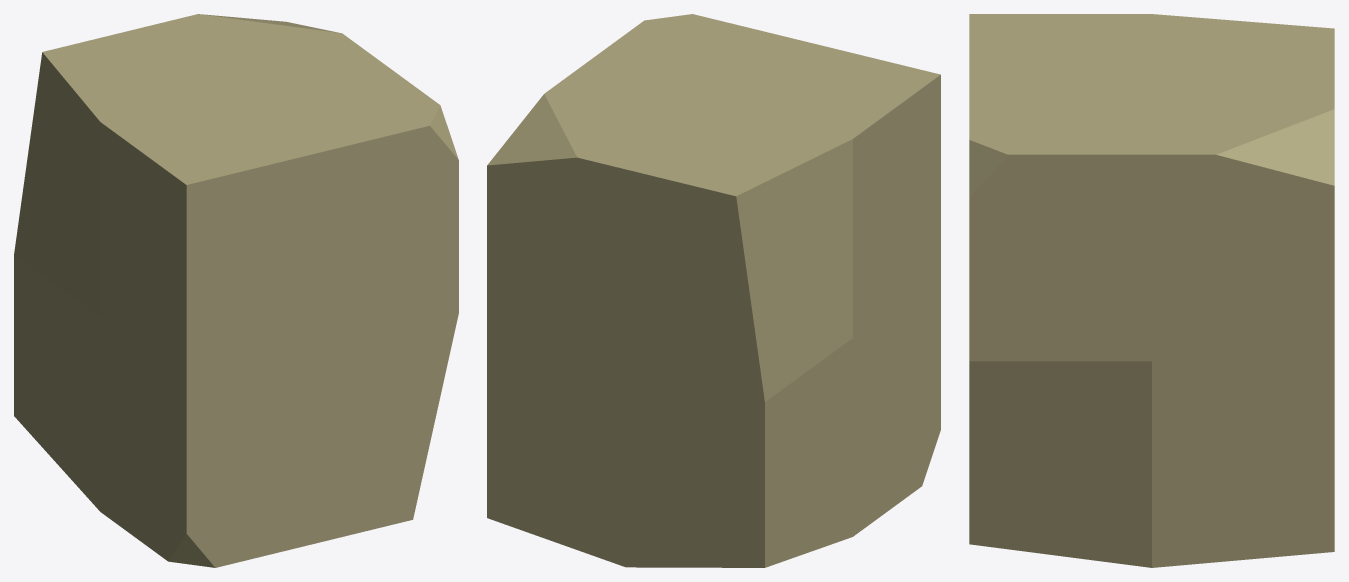
3 renders of one model, left to right at view 1: azimuth 30°, elevation 25°; view 2: azimuth 150°, elevation 25°; view 3: azimuth 270°, elevation 25°, orthographic. The views are drawn at different scales.
Visible parts, largest first — view 1: Cube; view 2: Cube; view 3: Cube.
Part boxes in pixels (x1,y1,x2,y2): Cube: (14, 14, 458, 567); Cube: (487, 14, 940, 567); Cube: (969, 14, 1334, 567).
Size of the model in its own units: 88.02 by 120 by 96.55.
